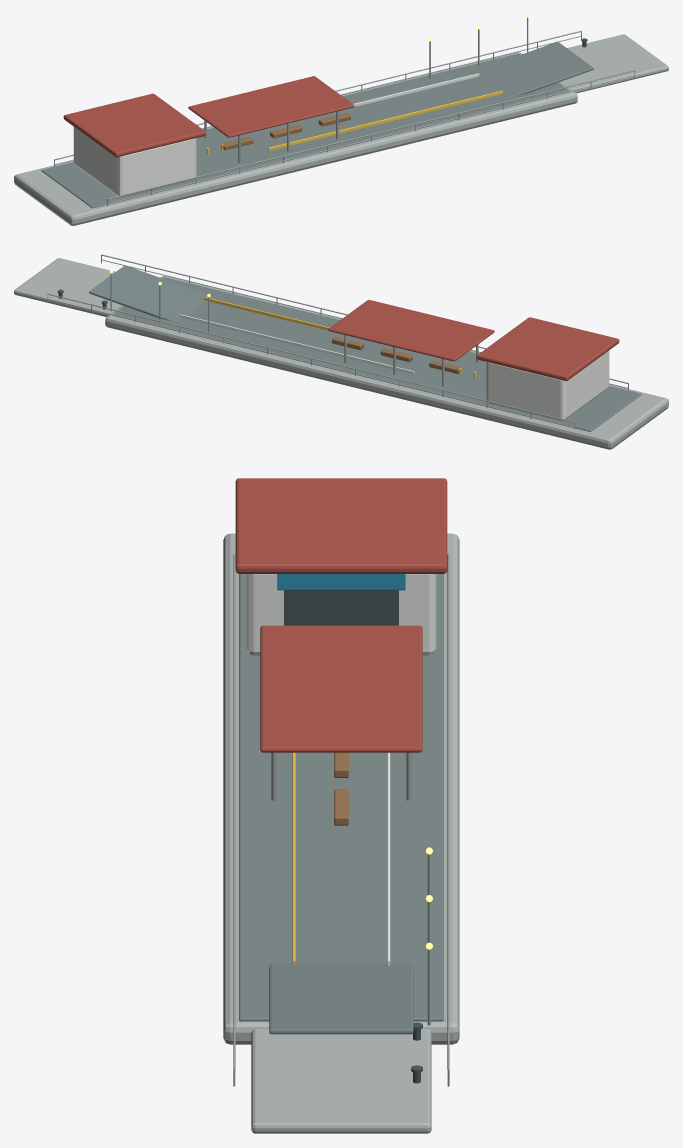
File: ferry-mianhuadi-pier-lod2.glb
The picture shows the model from 3 angles, top to bottom: view 1: azimuth 30°, elevation 25°; view 2: azimuth 150°, elevation 25°; view 3: azimuth 270°, elevation 25°; orthographic projection. The views are drawn at different scales.
Parts seen in each view (by area): view 1: Mianhuadi deck paving.001, Mianhuadi embankment platform.001, Mianhuadi waiting canopy.001, Mianhuadi gatehouse roof.001, Mianhuadi gatehouse.001, Mianhuadi sloped gangway.001, Mianhuadi floating apron.001, Mianhuadi embankment rail.004, Mianhuadi pedestrian channel, Mianhuadi embankment rail.005, Mianhuadi embankment rail.006, Mianhuadi vehicle channel (+1 smaller); view 2: Mianhuadi deck paving.001, Mianhuadi embankment platform.001, Mianhuadi waiting canopy.001, Mianhuadi gatehouse roof.001, Mianhuadi gatehouse.001, Mianhuadi sloped gangway.001, Mianhuadi floating apron.001, Mianhuadi embankment rail.006, Mianhuadi vehicle channel, Mianhuadi embankment rail.007, Mianhuadi embankment rail.004, Mianhuadi pedestrian channel (+1 smaller); view 3: Mianhuadi deck paving.001, Mianhuadi waiting canopy.001, Mianhuadi gatehouse roof.001, Mianhuadi floating apron.001, Mianhuadi embankment platform.001, Mianhuadi sloped gangway.001, Mianhuadi gatehouse.001, Mianhuadi passage opening.001, Mianhuadi name board.001, Mianhuadi embankment rail.004, Mianhuadi embankment rail.006.
Part boxes in pixels (x1,y1,x2,y2): Mianhuadi deck paving.001: (41,53,569,208); Mianhuadi embankment platform.001: (14,52,577,225); Mianhuadi waiting canopy.001: (188,76,354,137); Mianhuadi gatehouse roof.001: (63,93,205,157); Mianhuadi gatehouse.001: (73,127,196,197); Mianhuadi sloped gangway.001: (470,41,593,98); Mianhuadi floating apron.001: (560,34,668,93); Mianhuadi embankment rail.004: (107,70,635,199); Mianhuadi pedestrian channel: (268,90,502,150); Mianhuadi embankment rail.005: (108,75,634,204); Mianhuadi embankment rail.006: (54,30,581,160); Mianhuadi vehicle channel: (353,73,479,106); Mianhuadi deck paving.001: (113,277,641,431); Mianhuadi embankment platform.001: (105,276,668,449); Mianhuadi waiting canopy.001: (328,300,494,361); Mianhuadi gatehouse roof.001: (477,317,619,380); Mianhuadi gatehouse.001: (486,350,609,420); Mianhuadi sloped gangway.001: (89,265,212,322); Mianhuadi floating apron.001: (14,258,122,316); Mianhuadi embankment rail.006: (47,293,575,423); Mianhuadi vehicle channel: (180,314,414,374); Mianhuadi embankment rail.007: (48,298,574,427); Mianhuadi embankment rail.004: (101,254,628,383); Mianhuadi pedestrian channel: (203,297,329,330); Mianhuadi deck paving.001: (239,574,443,1021); Mianhuadi waiting canopy.001: (260,625,422,752); Mianhuadi gatehouse roof.001: (235,478,447,573); Mianhuadi floating apron.001: (251,1028,431,1133); Mianhuadi embankment platform.001: (223,533,459,1044); Mianhuadi sloped gangway.001: (269,963,413,1034); Mianhuadi gatehouse.001: (246,574,436,655); Mianhuadi passage opening.001: (284,590,398,625); Mianhuadi name board.001: (277,574,405,590); Mianhuadi embankment rail.004: (233,554,235,1069); Mianhuadi embankment rail.006: (447,554,449,1069).
Bounding box in the file's own units: 62 × 5.94 × 10.5.
